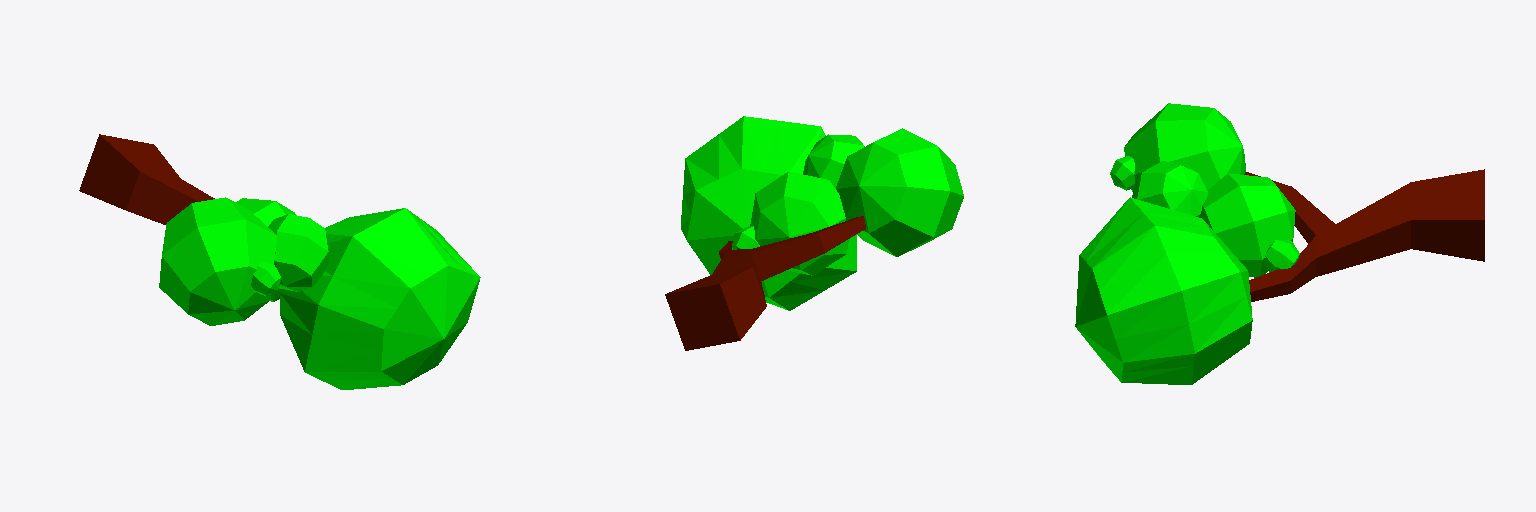
The model's file is tree.obj.
3 views of the same model, side by side, from view 1: azimuth 30°, elevation 25°; view 2: azimuth 150°, elevation 25°; view 3: azimuth 270°, elevation 25° (orthographic).
Parts seen in each view (by area): view 1: polySurface9_Mesh.004, polySurface3_Mesh.001, Wood_Branch_Mesh.006, polySurface5_Mesh.002, polySurface7_Mesh.003, polySurface1_Mesh; view 2: polySurface9_Mesh.004, polySurface3_Mesh.001, Wood_Branch_Mesh.006, polySurface7_Mesh.003, polySurface5_Mesh.002; view 3: polySurface9_Mesh.004, Wood_Branch_Mesh.006, polySurface3_Mesh.001, polySurface7_Mesh.003, polySurface5_Mesh.002, polySurface11_Mesh.005, polySurface1_Mesh.
Part boxes in pixels (left/top/right/bottom): polySurface9_Mesh.004: left=280, top=208, right=480, bottom=389; polySurface3_Mesh.001: left=159, top=197, right=276, bottom=325; Wood_Branch_Mesh.006: left=79, top=134, right=214, bottom=224; polySurface5_Mesh.002: left=268, top=214, right=329, bottom=291; polySurface7_Mesh.003: left=236, top=198, right=295, bottom=301; polySurface1_Mesh: left=251, top=261, right=281, bottom=295; polySurface9_Mesh.004: left=681, top=116, right=856, bottom=310; polySurface3_Mesh.001: left=836, top=128, right=963, bottom=256; Wood_Branch_Mesh.006: left=665, top=216, right=865, bottom=350; polySurface7_Mesh.003: left=750, top=171, right=848, bottom=275; polySurface5_Mesh.002: left=803, top=134, right=864, bottom=188; polySurface9_Mesh.004: left=1075, top=197, right=1252, bottom=384; Wood_Branch_Mesh.006: left=1244, top=169, right=1484, bottom=301; polySurface3_Mesh.001: left=1124, top=103, right=1245, bottom=191; polySurface7_Mesh.003: left=1199, top=173, right=1295, bottom=277; polySurface5_Mesh.002: left=1132, top=161, right=1207, bottom=216; polySurface11_Mesh.005: left=1264, top=239, right=1299, bottom=272; polySurface1_Mesh: left=1110, top=156, right=1134, bottom=190.
Bounding box in the file's own units: 0.8912 × 0.6321 × 1.14.